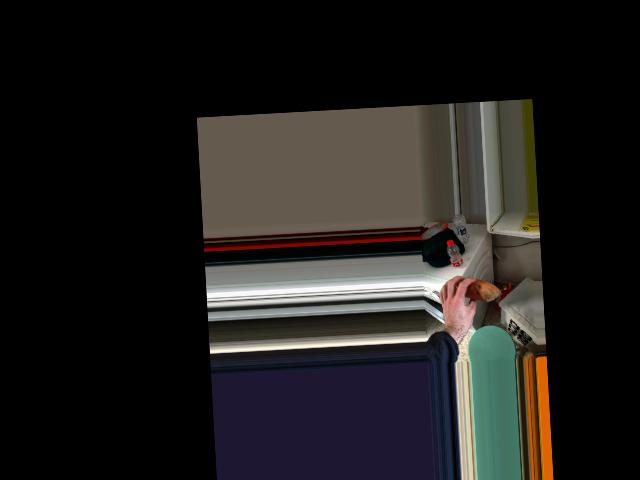sweet_potato: (450, 278, 499, 302)
